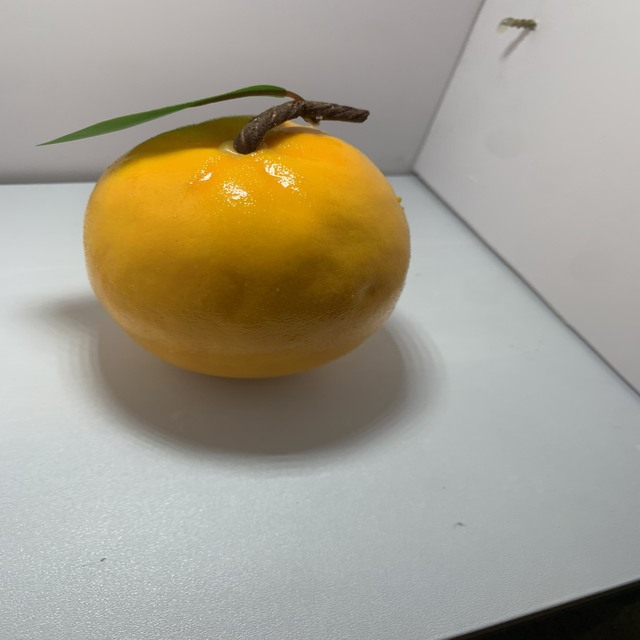Cam vang: (80, 94, 414, 382)
